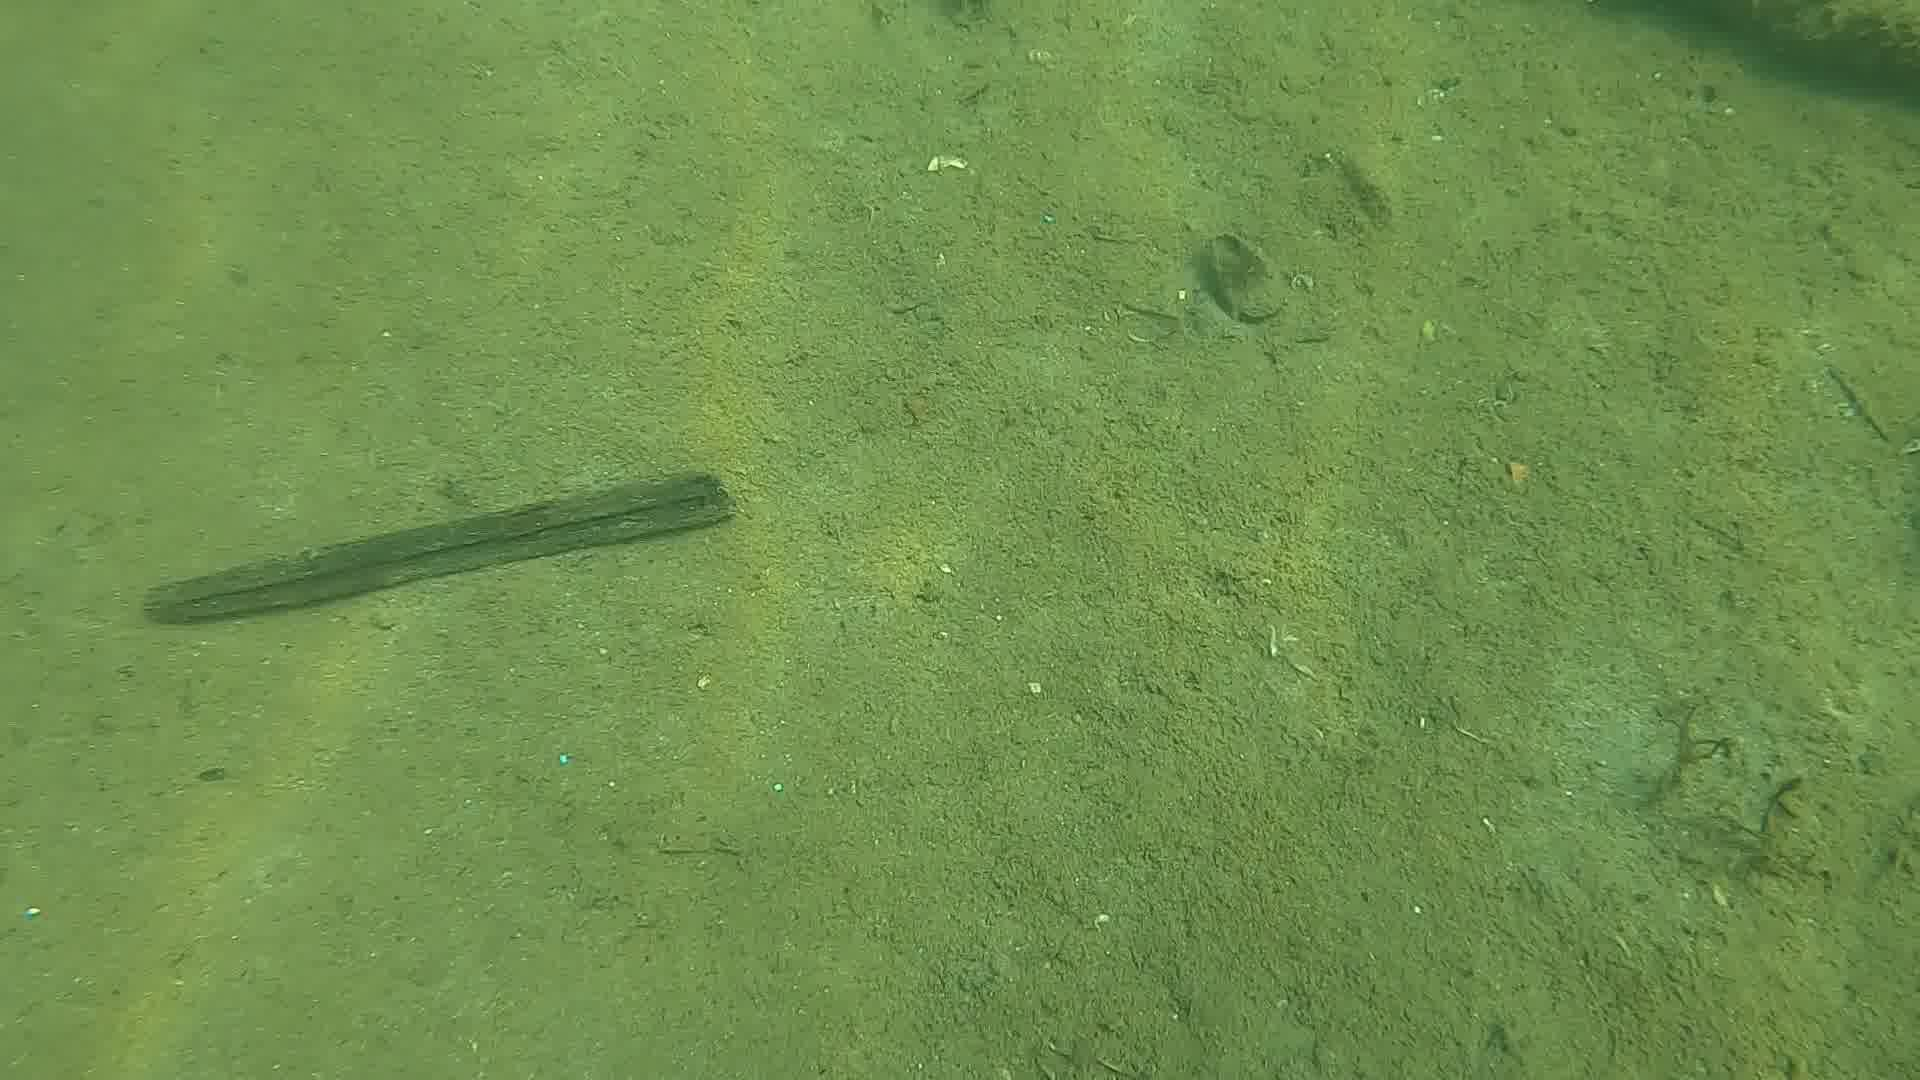wood: (138, 469, 738, 622)
